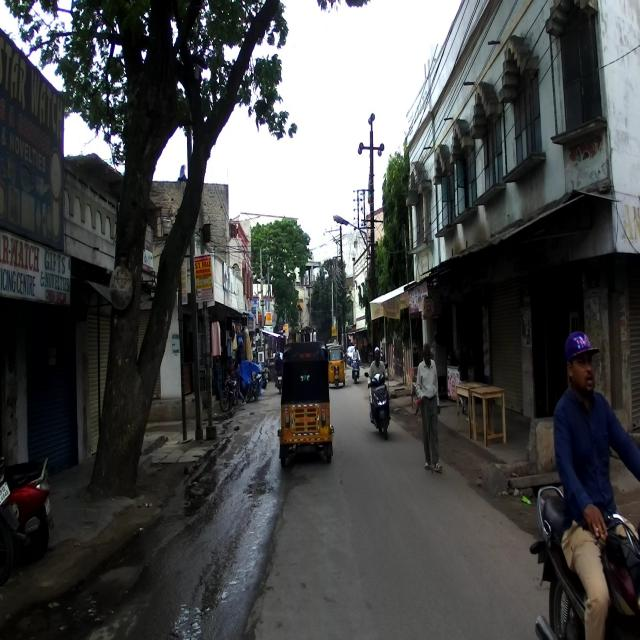autorickshaw: (274, 334, 331, 465)
motorcycle: (3, 457, 56, 563)
motorcycle_Hero: (528, 482, 640, 640)
scooter: (364, 362, 391, 440)
